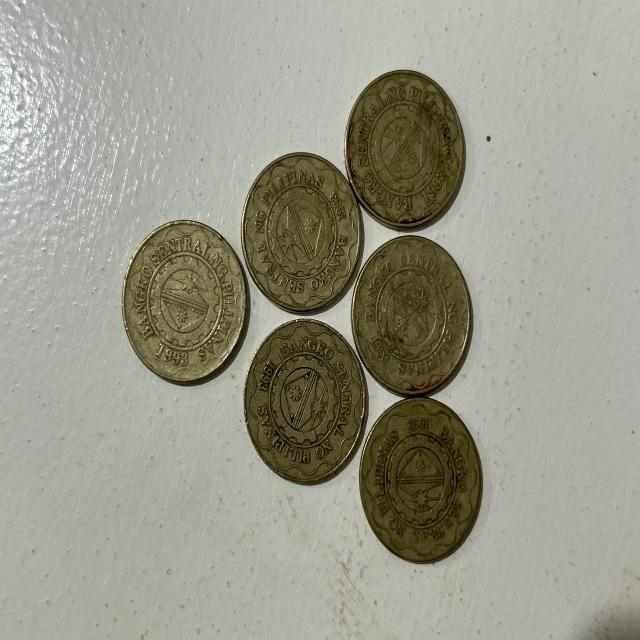5_Old_Back: (349, 396, 484, 562), (343, 69, 478, 224), (120, 216, 240, 390), (352, 237, 477, 387), (240, 157, 364, 308), (244, 319, 362, 474)
